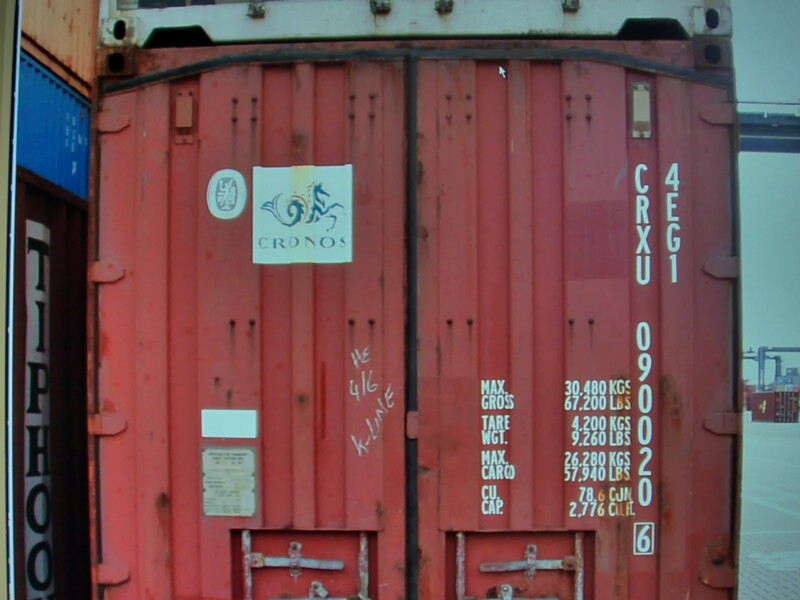container_door: (91, 48, 741, 597)
